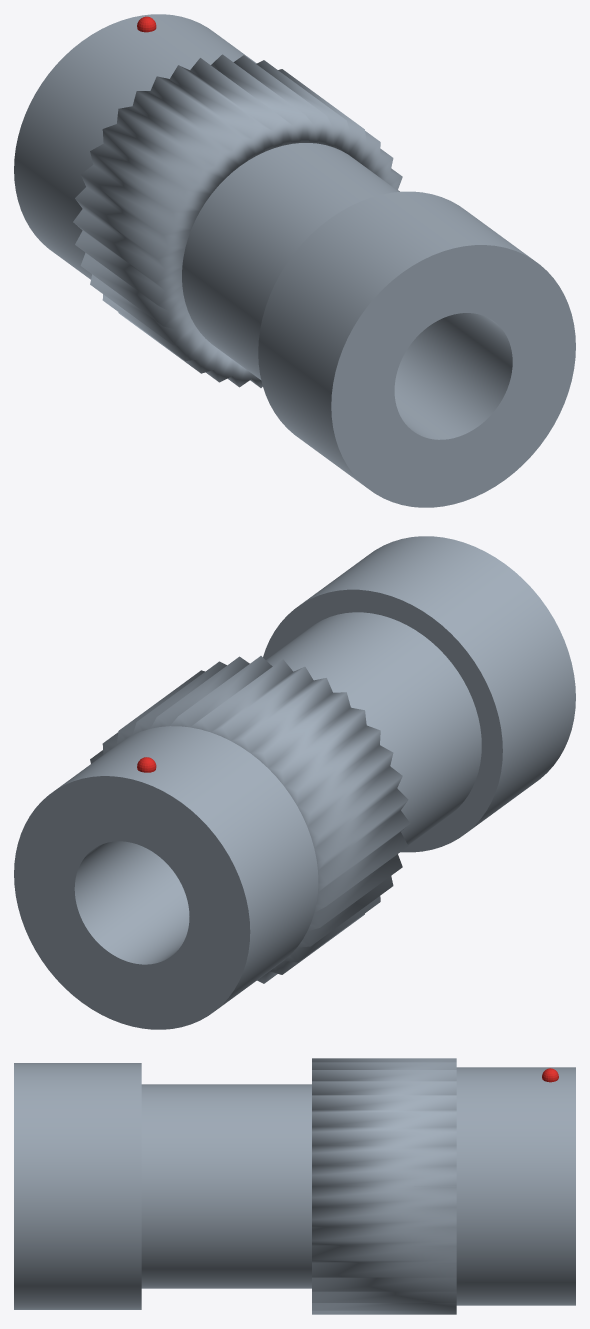
Rendered from bd2501-3-compact-base.glb.
The picture shows the model from 3 angles, top to bottom: view 1: azimuth 30°, elevation 25°; view 2: azimuth 150°, elevation 25°; view 3: azimuth 270°, elevation 25°; orthographic projection. The views are drawn at different scales.
Parts seen in each view (by area): view 1: Compact_Base_BD2501_3_Rear_Main_Opening, Compact_Base_BD2501_3_Quarter_Turn_Ribbed_Ring, Compact_Base_BD2501_3_Central_Patent_Lumen, Compact_Base_BD2501_3_Front_Tube_Connector; view 2: Compact_Base_BD2501_3_Front_Tube_Connector, Compact_Base_BD2501_3_Rear_Main_Opening, Compact_Base_BD2501_3_Quarter_Turn_Ribbed_Ring, Compact_Base_BD2501_3_Central_Patent_Lumen; view 3: Compact_Base_BD2501_3_Quarter_Turn_Ribbed_Ring, Compact_Base_BD2501_3_Central_Patent_Lumen, Compact_Base_BD2501_3_Rear_Main_Opening, Compact_Base_BD2501_3_Front_Tube_Connector.
Boxes of the visible parts, x1,y1,x2,y2 form: Compact_Base_BD2501_3_Rear_Main_Opening: (258,191,575,507); Compact_Base_BD2501_3_Quarter_Turn_Ribbed_Ring: (73,54,402,387); Compact_Base_BD2501_3_Central_Patent_Lumen: (182,143,454,395); Compact_Base_BD2501_3_Front_Tube_Connector: (14,14,256,279); Compact_Base_BD2501_3_Front_Tube_Connector: (14,726,318,1029); Compact_Base_BD2501_3_Rear_Main_Opening: (263,536,575,852); Compact_Base_BD2501_3_Quarter_Turn_Ribbed_Ring: (90,656,410,983); Compact_Base_BD2501_3_Central_Patent_Lumen: (266,612,481,845); Compact_Base_BD2501_3_Quarter_Turn_Ribbed_Ring: (312,1058,456,1314); Compact_Base_BD2501_3_Central_Patent_Lumen: (141,1084,311,1288); Compact_Base_BD2501_3_Rear_Main_Opening: (14,1063,141,1309); Compact_Base_BD2501_3_Front_Tube_Connector: (414,1067,575,1305).
Bounding box in the file's own units: 0.0302 × 0.0303 × 0.066.
